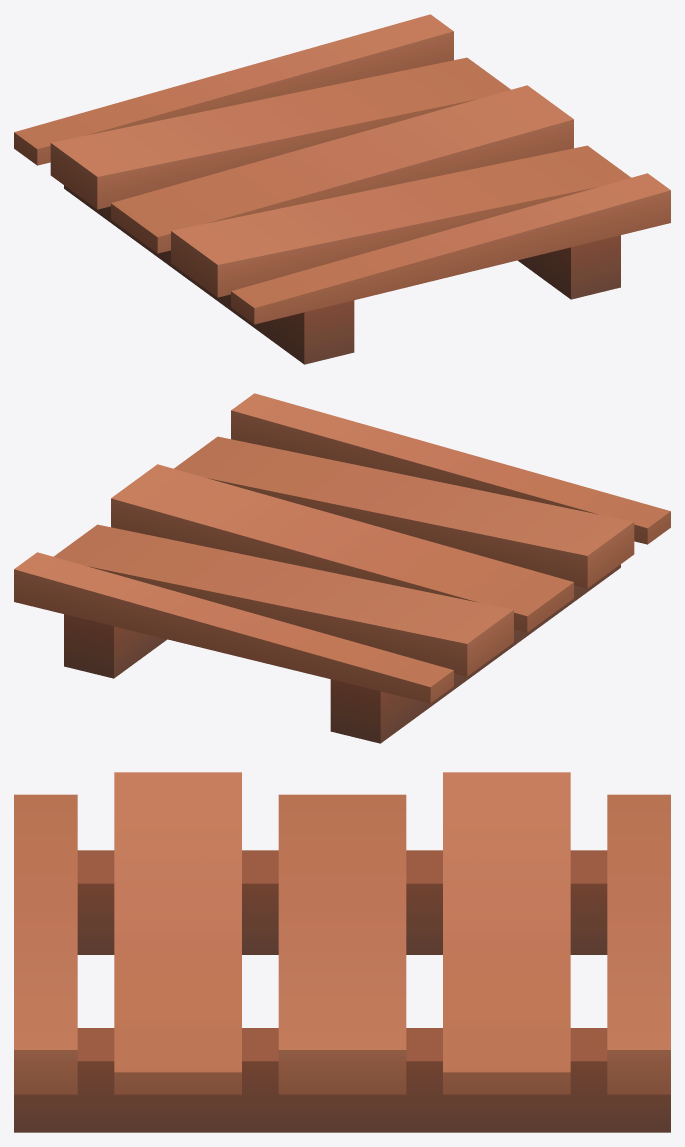
Rendered from kenney-platformer-platform.glb.
The picture shows the model from 3 angles, top to bottom: view 1: azimuth 30°, elevation 25°; view 2: azimuth 150°, elevation 25°; view 3: azimuth 270°, elevation 25°; orthographic projection. The views are drawn at different scales.
Visible parts, largest first — view 1: platform; view 2: platform; view 3: platform.
Part boxes in pixels (x1,y1,x2,y2): platform: (14,14,670,364); platform: (14,393,670,743); platform: (14,772,670,1132).
Bounding box in the file's own units: 1 × 0.195 × 1.
Materials: 1 (1 with a texture image).
